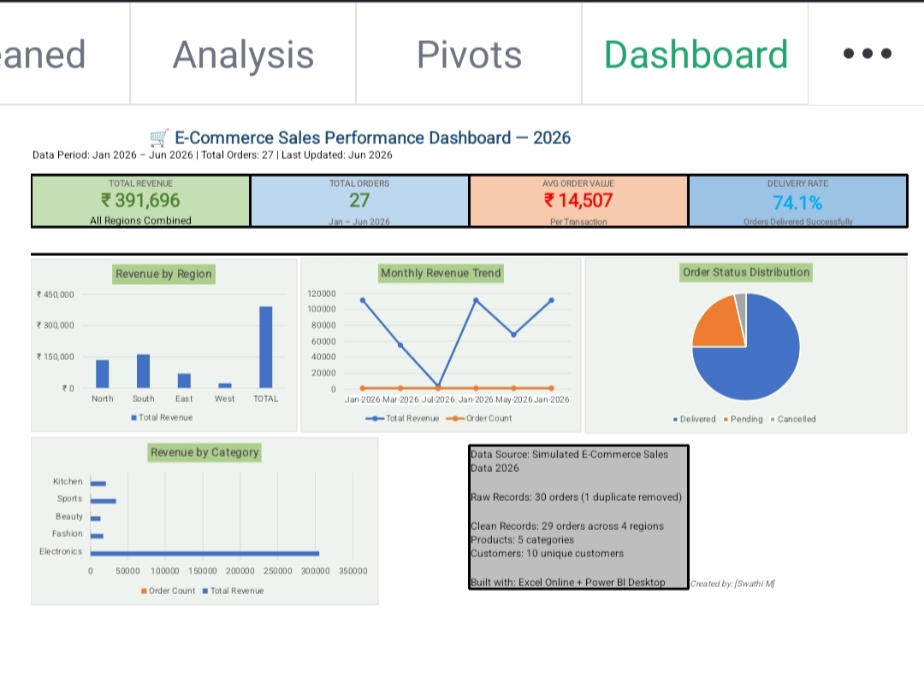

What the dashboard file says about the page in this screenshot:
{"tool":"powerbi","page":{"name":"Sales Dashboard","canvas":[1280,720],"ordinal":0},"visuals":[{"type":"cardVisual","fields":{"Data":["Cleaned.Total Revenue"]},"box":[0,86.4,279.4,131],"z":0},{"type":"cardVisual","fields":{"Data":["Cleaned.Total Orders"]},"box":[332.6,86.4,279.4,131],"z":1000},{"type":"cardVisual","fields":{"Data":["Cleaned.Avg Order Value"]},"box":[663.8,86.4,279.4,131],"z":2000},{"type":"cardVisual","fields":{"Data":["Cleaned.Delivry Rate"]},"box":[1000.8,86.4,279.4,131],"z":3000},{"type":"clusteredBarChart","title":"Revenue by Region","fields":{"Category":["Cleaned.Region"],"Y":["Cleaned.Total Revenue"]},"box":[0,241.9,296.6,236.2],"z":4000},{"type":"lineChart","title":"Monthly Revenue Trend","fields":{"Y":["Cleaned.Total Revenue"],"Category":["Cleaned.Month.Variation.Date Hierarchy.Year","Cleaned.Month.Variation.Date Hierarchy.Quarter","Cleaned.Month.Variation.Date Hierarchy.Month","Cleaned.Month.Variation.Date Hierarchy.Day"]},"box":[311,241.9,296.6,236.2],"z":5000},{"type":"donutChart","title":"Revenue by Category","fields":{"Category":["Cleaned.Category"],"Y":["Cleaned.Total Revenue"]},"box":[626.4,241.9,312.5,236.2],"z":6000},{"type":"pieChart","title":"Order Status Distribution","fields":{"Category":["Cleaned.Status"],"Y":["Cleaned.Total Orders"]},"box":[961.9,241.9,318.2,236.2],"z":7000},{"type":"tableEx","title":"Top Customers by Revenue","fields":{"Values":["Cleaned.Customer Name","Cleaned.Total Revenue","Cleaned.Total Orders","Cleaned.Customer Type"]},"box":[0,509.8,296.6,210.2],"z":8000},{"type":"slicer","fields":{"Values":["Cleaned.Region"]},"box":[626.4,509.8,299.5,210.2],"z":9000},{"type":"slicer","fields":{"Values":["Cleaned.Category"]},"box":[983.5,509.8,296.6,210.2],"z":10000},{"type":"slicer","fields":{"Values":["Cleaned.Status"]},"box":[328.3,509.8,247.7,210.2],"z":11000},{"type":"textbox","title":"🛒 E-Commerce Sales Performance Dashboard","box":[0,0,663.8,54.7],"z":12000},{"type":"textbox","title":"Data Period: Jan 2026 – Jun 2026  |  Built by: Swathi M  |  Tools: Excel Online + Power BI","box":[61.9,54.7,532.8,20.2],"z":13000}]}

Visuals, with their boxes on the page's 1280x720 design canvas (x1, y1, x2, y2). These are canvas units, not pixel positions in the 924x698 screenshot, which may show the page scaled, cropped or inside an application window:
cardVisual - Cleaned.Total Revenue: <box>0,86,279,217</box>
cardVisual - Cleaned.Total Orders: <box>333,86,612,217</box>
cardVisual - Cleaned.Avg Order Value: <box>664,86,943,217</box>
cardVisual - Cleaned.Delivry Rate: <box>1001,86,1280,217</box>
"Revenue by Region" clusteredBarChart: <box>0,242,297,478</box>
"Monthly Revenue Trend" lineChart: <box>311,242,608,478</box>
"Revenue by Category" donutChart: <box>626,242,939,478</box>
"Order Status Distribution" pieChart: <box>962,242,1280,478</box>
"Top Customers by Revenue" tableEx: <box>0,510,297,720</box>
slicer - Cleaned.Region: <box>626,510,926,720</box>
slicer - Cleaned.Category: <box>984,510,1280,720</box>
slicer - Cleaned.Status: <box>328,510,576,720</box>
"🛒 E-Commerce Sales Performance Dashboard" textbox: <box>0,0,664,55</box>
"Data Period: Jan 2026 – Jun 2026  |  Built by: Swathi M  |  Tools: Excel Online + Power BI" textbox: <box>62,55,595,75</box>
